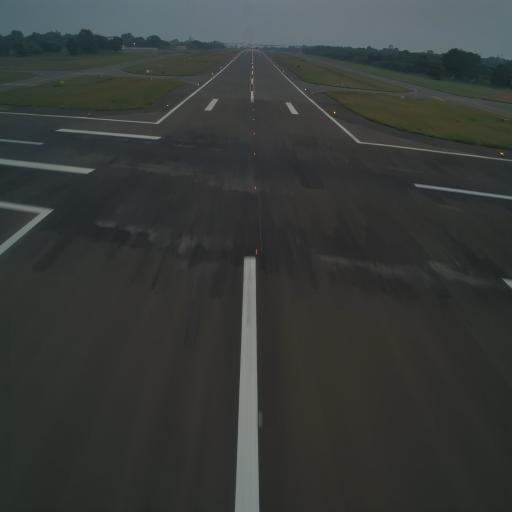on: (254, 406, 266, 434), (253, 243, 261, 258), (250, 181, 259, 192), (251, 128, 257, 137), (253, 148, 258, 158)
